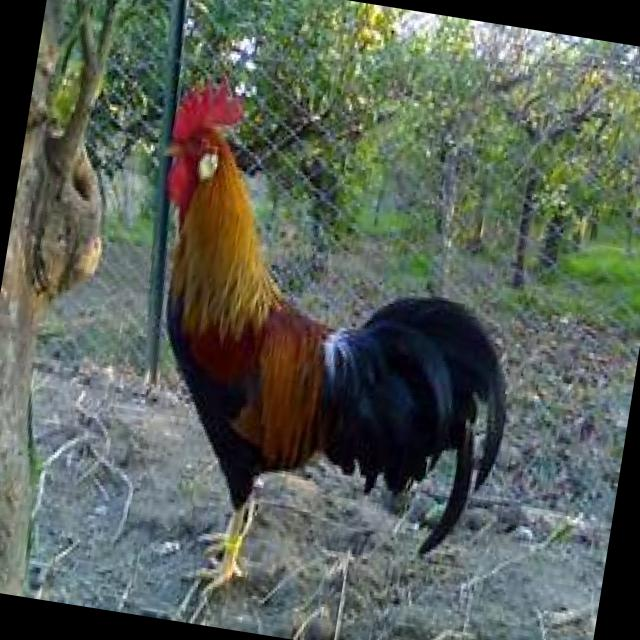animal: (93, 66, 552, 640)
